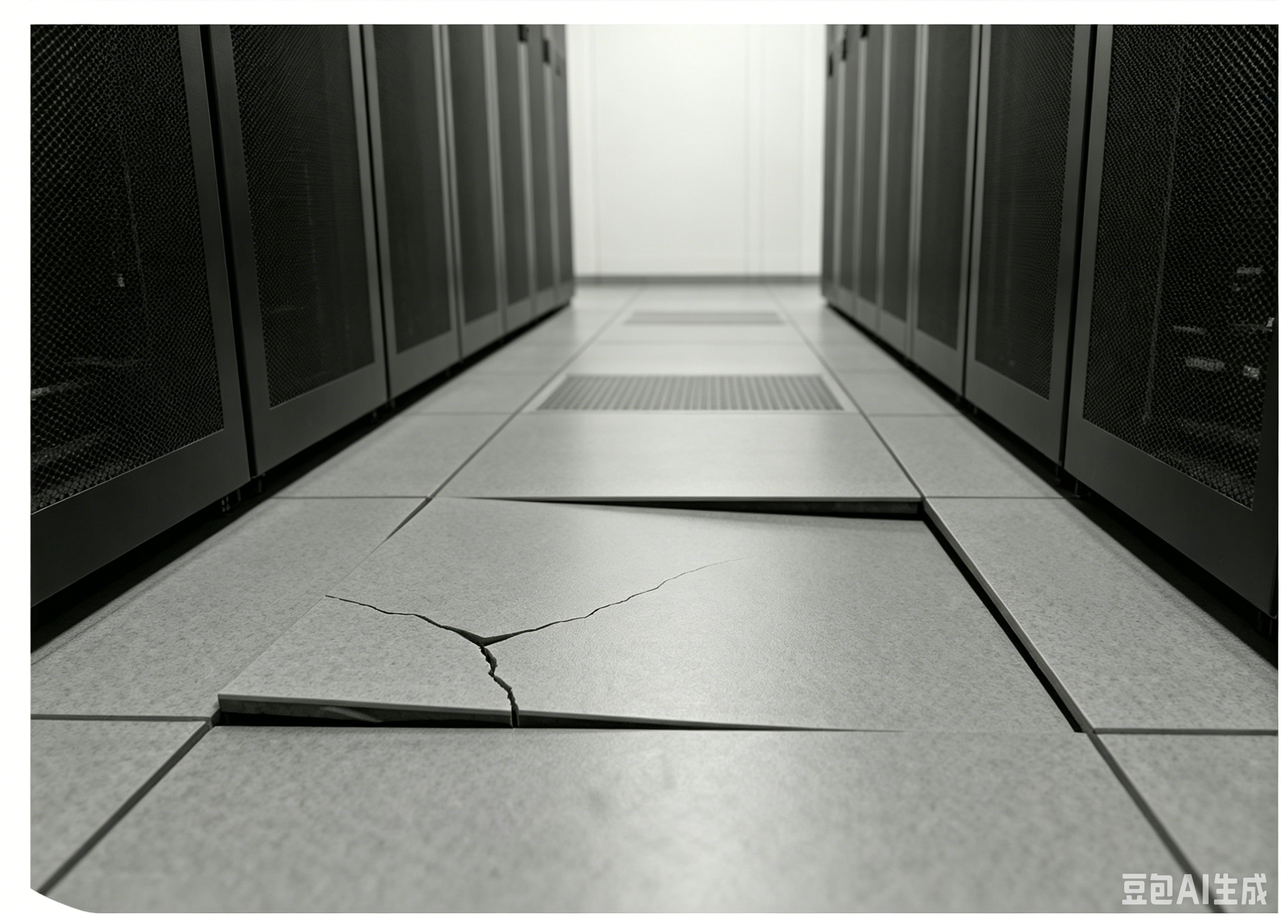floor_defect: (186, 644, 1127, 764), (423, 492, 970, 567), (274, 580, 766, 645), (923, 569, 1053, 642)
